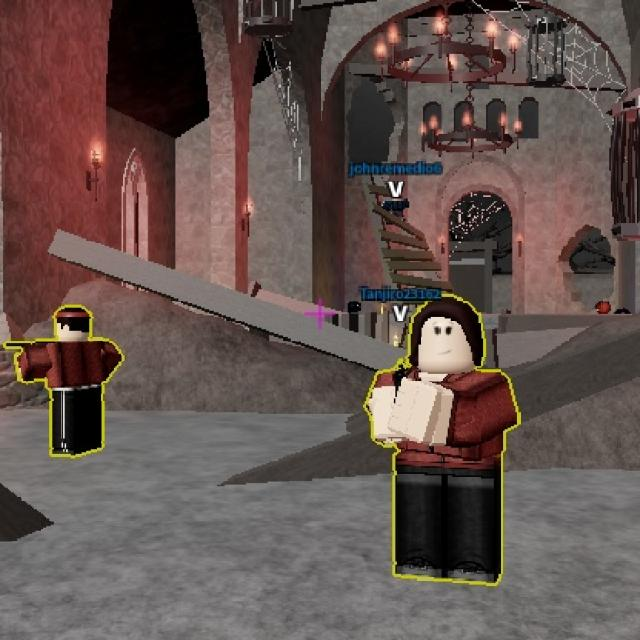player: (386, 297, 506, 590), (29, 296, 114, 466)
